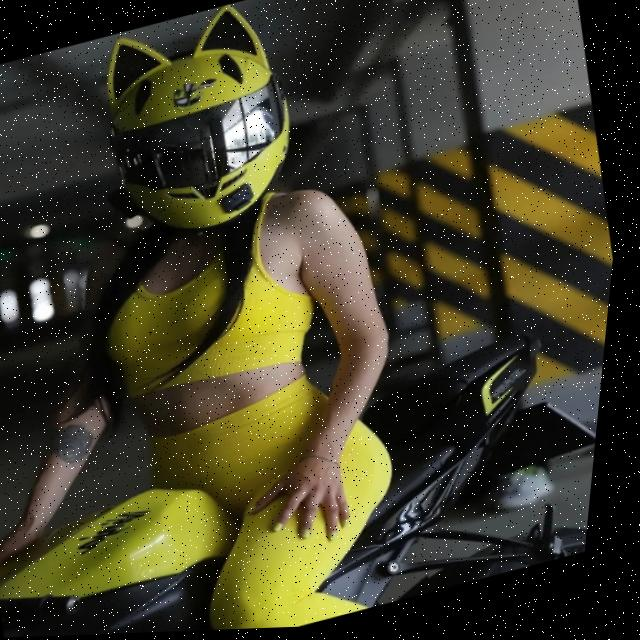helmet: (69, 0, 329, 264)
